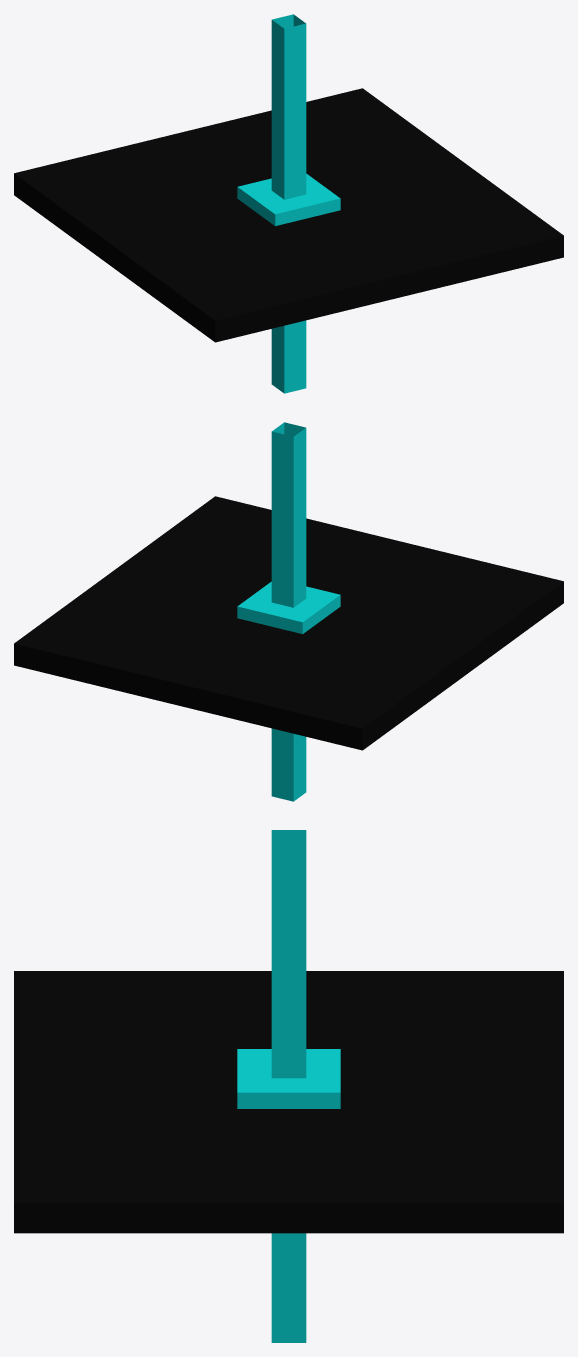
Rendered from BigStrut_P_P_P_P_P_P_P_P_BigStrut.fbx.
The picture shows the model from 3 angles, top to bottom: view 1: azimuth 30°, elevation 25°; view 2: azimuth 150°, elevation 25°; view 3: azimuth 270°, elevation 25°; orthographic projection. The views are drawn at different scales.
Parts seen in each view (by area): view 1: BigStrut_P_P_P_P_P_P_P_P_BigStrut; view 2: BigStrut_P_P_P_P_P_P_P_P_BigStrut; view 3: BigStrut_P_P_P_P_P_P_P_P_BigStrut.
Part boxes in pixels (x1=…): BigStrut_P_P_P_P_P_P_P_P_BigStrut: x1=14, y1=14, x2=563, y2=393; BigStrut_P_P_P_P_P_P_P_P_BigStrut: x1=14, y1=422, x2=563, y2=801; BigStrut_P_P_P_P_P_P_P_P_BigStrut: x1=14, y1=830, x2=563, y2=1342.
Size of the model in its own units: 100 by 100 by 100.
